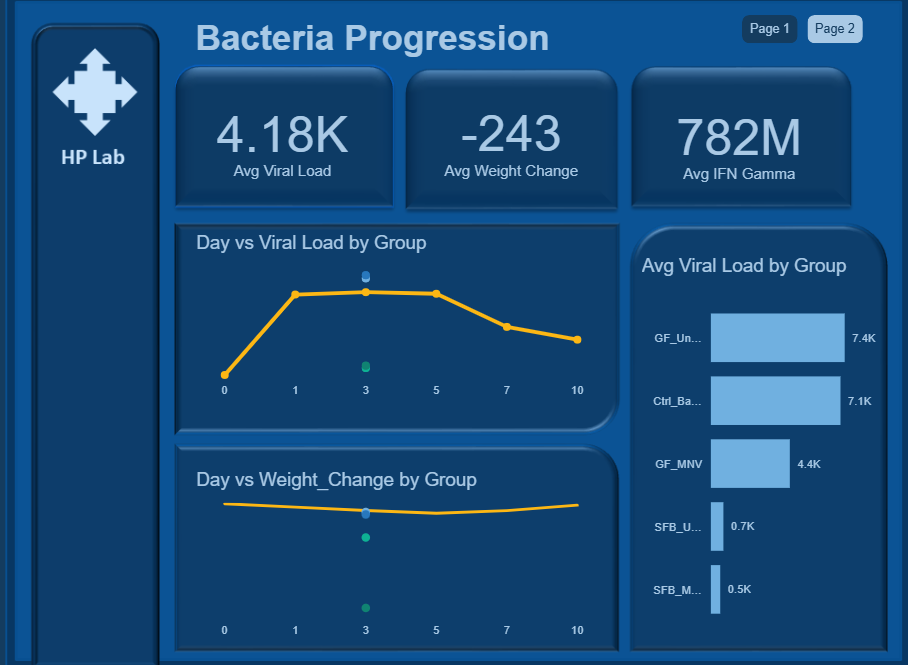

The dashboard page shown, as its layout file describes it:
{"tool":"powerbi","page":{"name":"Page 1","canvas":[1280,720],"ordinal":0},"visuals":[{"type":"barChart","fields":{"Category":["Sheet2.Group"],"Y":["Sheet2.Avg Viral Load"]},"box":[830.3,276.8,259.3,413.6],"z":0},{"type":"lineChart","title":"Day vs Viral Load by Group","fields":{"Y":["Sheet2.Avg Viral Load"],"Category":["Sheet2.Day"],"Series":["Sheet2.Group"]},"box":[357.9,252.9,443.8,182.9],"z":1000},{"type":"lineChart","title":"Day vs Weight_Change by Group","fields":{"Category":["Sheet2.Day"],"Y":["Sheet2.Avg Weight Change"],"Series":["Sheet2.Group"]},"box":[357.9,504.2,443.8,186.1],"z":2000},{"type":"card","fields":{"Values":["Sheet2.Avg Viral Load"]},"box":[357.9,90.7,192.5,125.7],"z":3000},{"type":"card","fields":{"Values":["Sheet2.Avg Weight Change"]},"box":[601.3,89.1,190.9,127.2],"z":4000},{"type":"card","fields":{"Values":["Sheet2.Avg IFN Gamma"]},"box":[841.4,89.1,194.1,135.2],"z":6000},{"type":"textbox","box":[346.8,19.1,402.4,54.1],"z":6001},{"type":"pageNavigator","box":[941.6,22.3,128.8,30.2],"z":6002}]}

Visuals, with their boxes on the page's 1280x720 design canvas (x1, y1, x2, y2). These are canvas units, not pixel positions in the 908x665 screenshot, which may show the page scaled, cropped or inside an application window:
barChart - Sheet2.Group x Sheet2.Avg Viral Load: (830,277,1090,690)
"Day vs Viral Load by Group" lineChart: (358,253,802,436)
"Day vs Weight_Change by Group" lineChart: (358,504,802,690)
card - Sheet2.Avg Viral Load: (358,91,550,216)
card - Sheet2.Avg Weight Change: (601,89,792,216)
card - Sheet2.Avg IFN Gamma: (841,89,1036,224)
textbox: (347,19,749,73)
pageNavigator: (942,22,1070,52)
